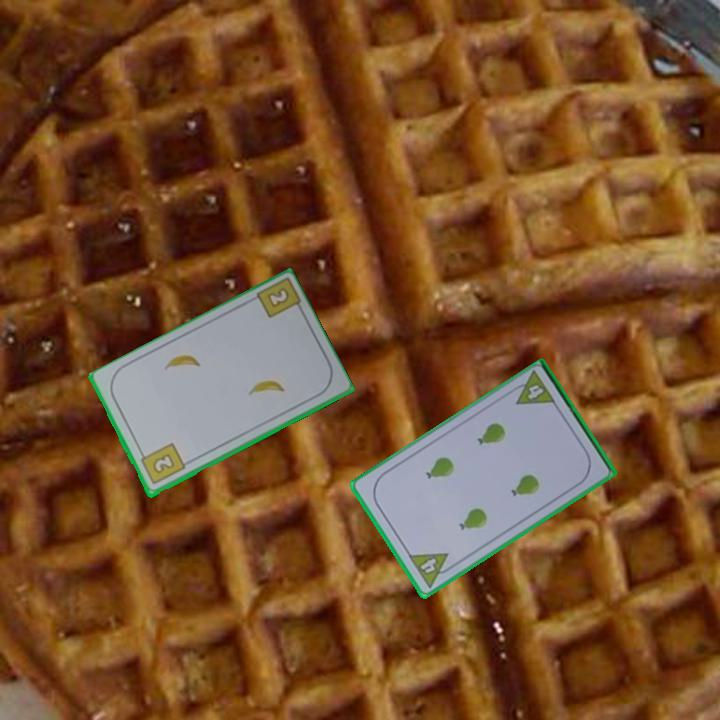2b: (136, 440, 188, 488), (266, 286, 290, 308)
4p: (405, 549, 458, 591), (506, 368, 558, 408)
